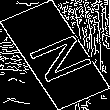N_NE: (16, 26, 94, 84)
